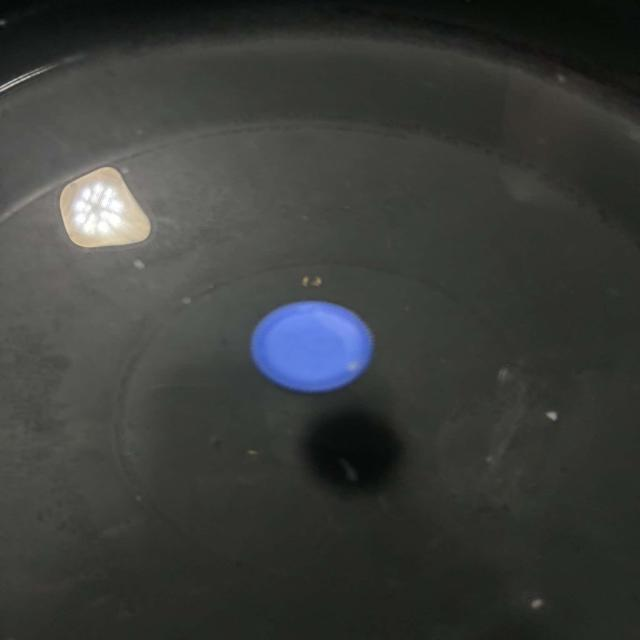Bottle Lid: (226, 280, 398, 424)
